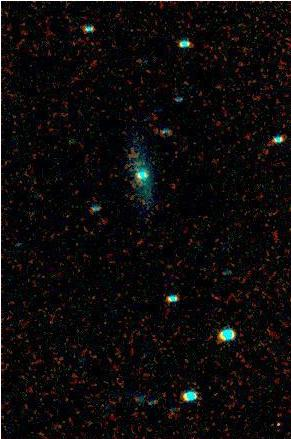star: (261, 406, 291, 436)
